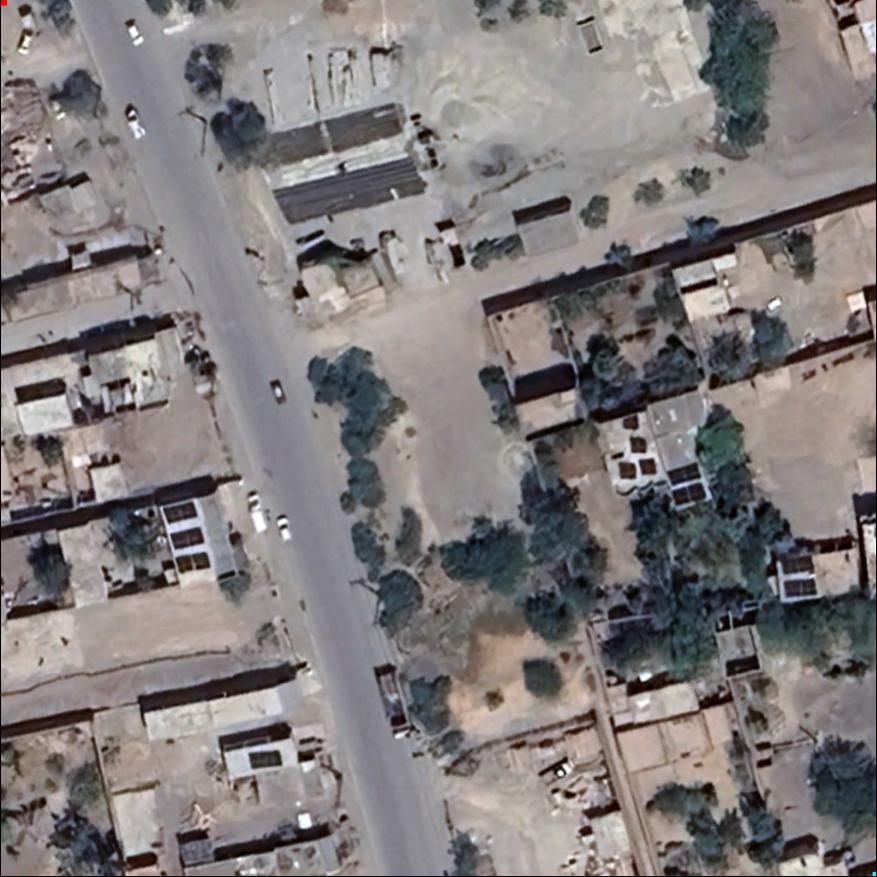Solarpanel: (157, 497, 201, 528), (668, 480, 711, 510), (167, 523, 211, 552), (666, 458, 705, 490), (170, 549, 216, 576), (617, 457, 659, 484), (782, 575, 819, 600), (246, 748, 284, 772), (777, 553, 815, 575), (626, 435, 651, 457)
